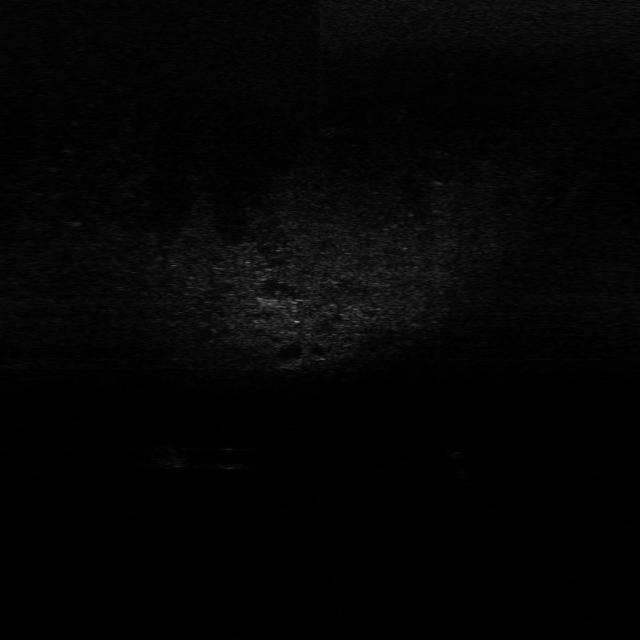ball: (209, 445, 247, 470)
circle cage: (146, 440, 193, 474)
cylinder: (448, 449, 468, 486)
